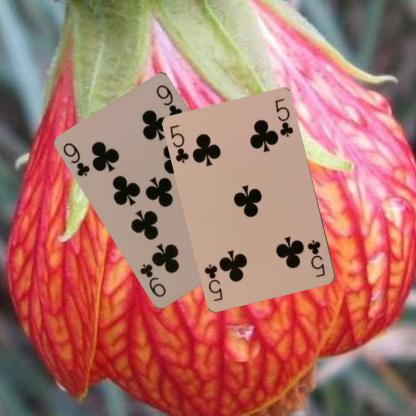5c: (168, 122, 191, 165), (305, 237, 327, 279)
9c: (61, 139, 92, 178)
